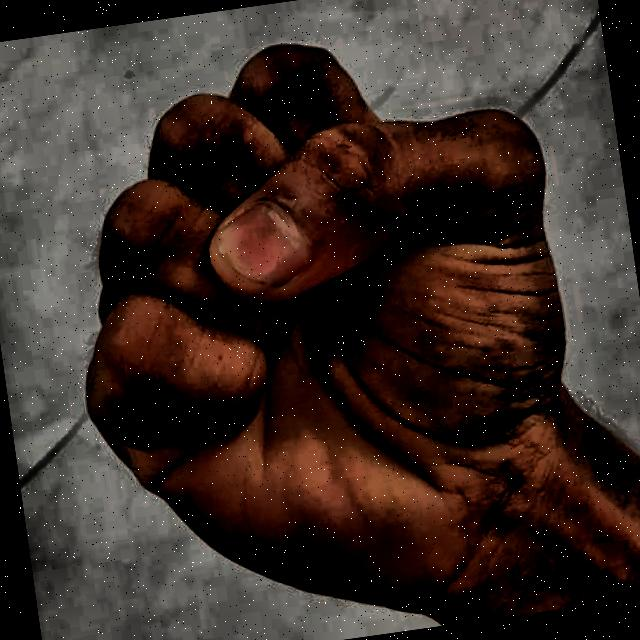Sha: (3, 0, 632, 640)
